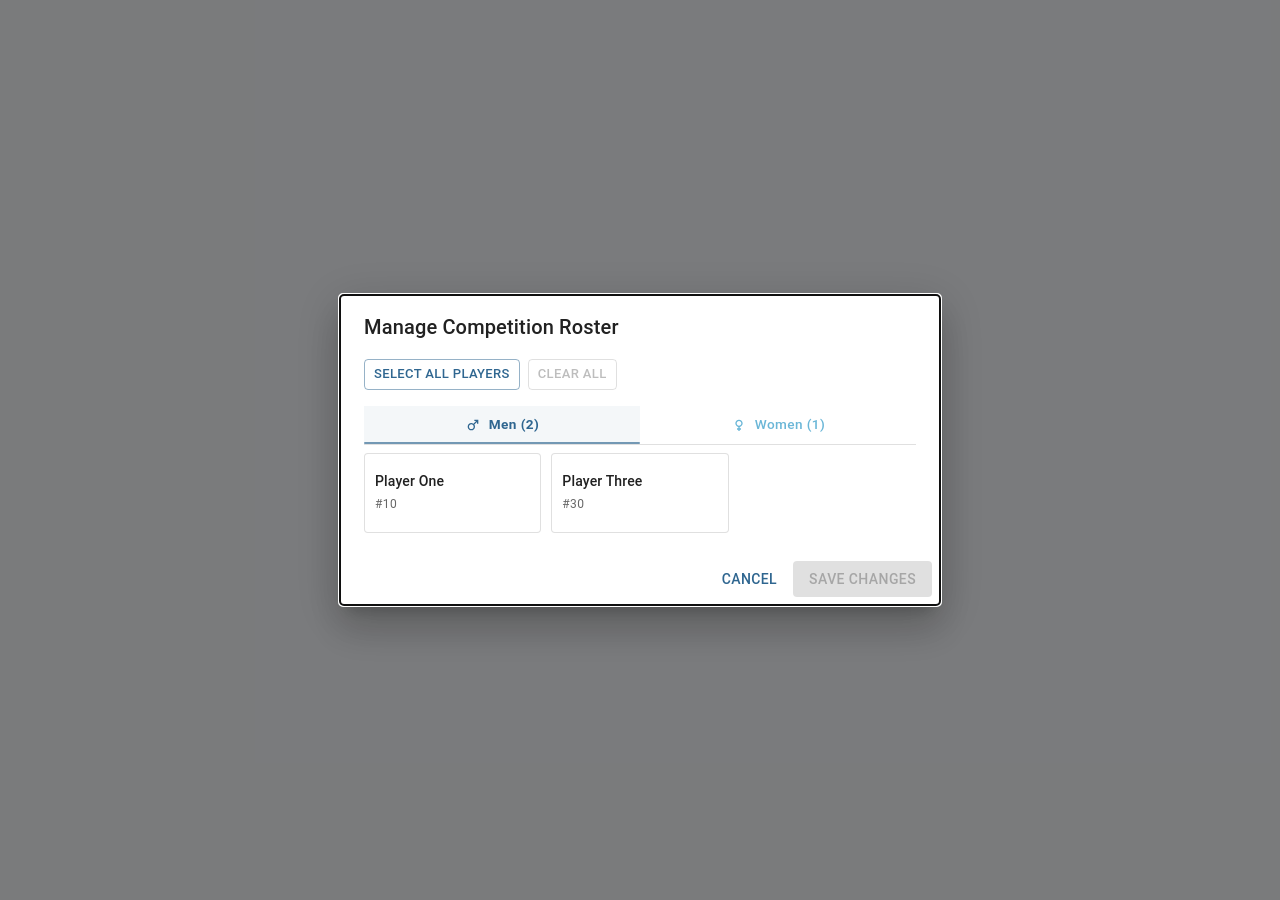
Test: AddPlayersToRosterModal › displays team players in manage roster modal
Expected: the heading "Manage Competition Roster" is shown, [364,315,619,339]
Expected: the text "Player One" is shown, [375,471,444,491]
Click the tab "Women (1)".
click(778, 425)  # box [640,406,916,444]
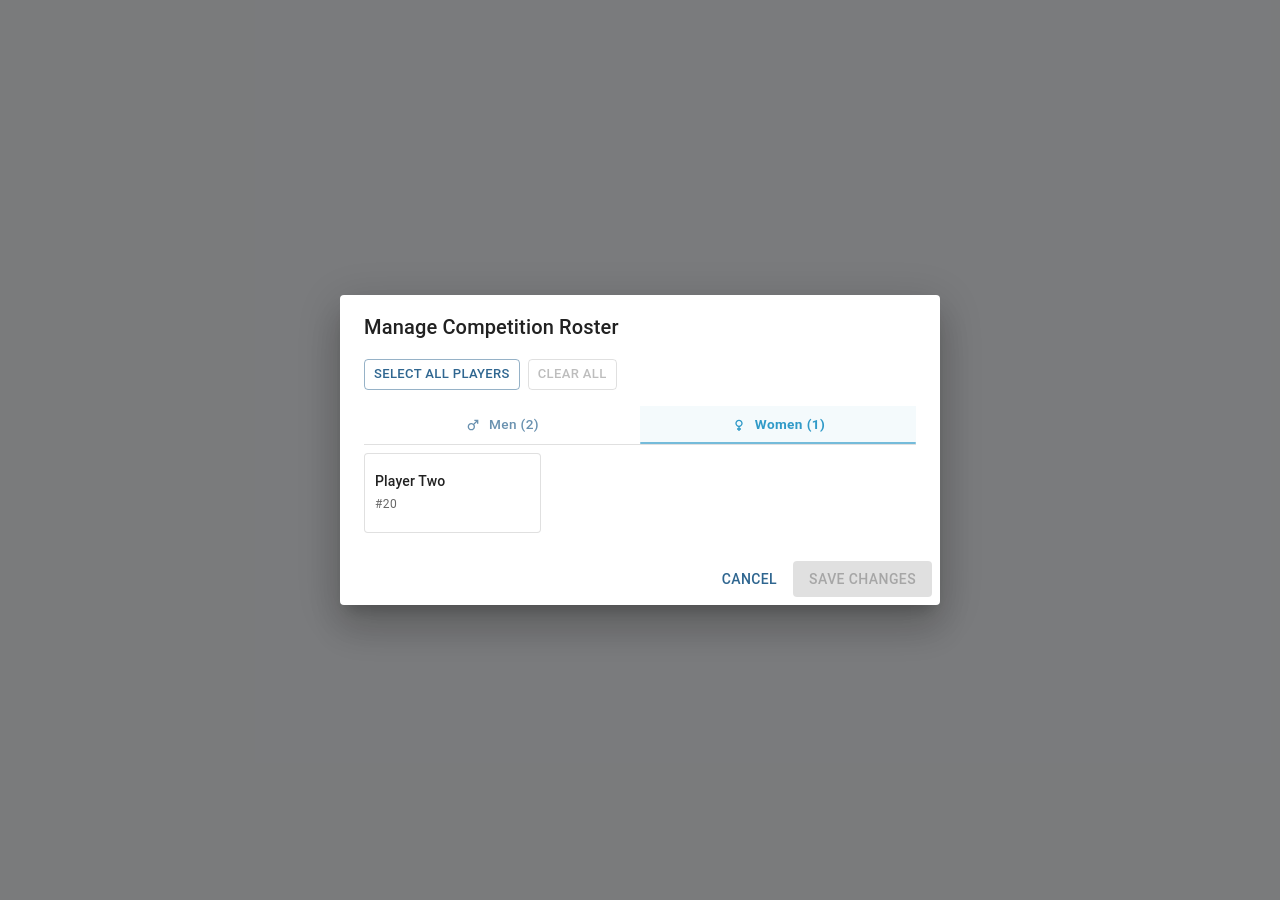
Now the text "Player Two" is shown, box [375,471,445,491]
